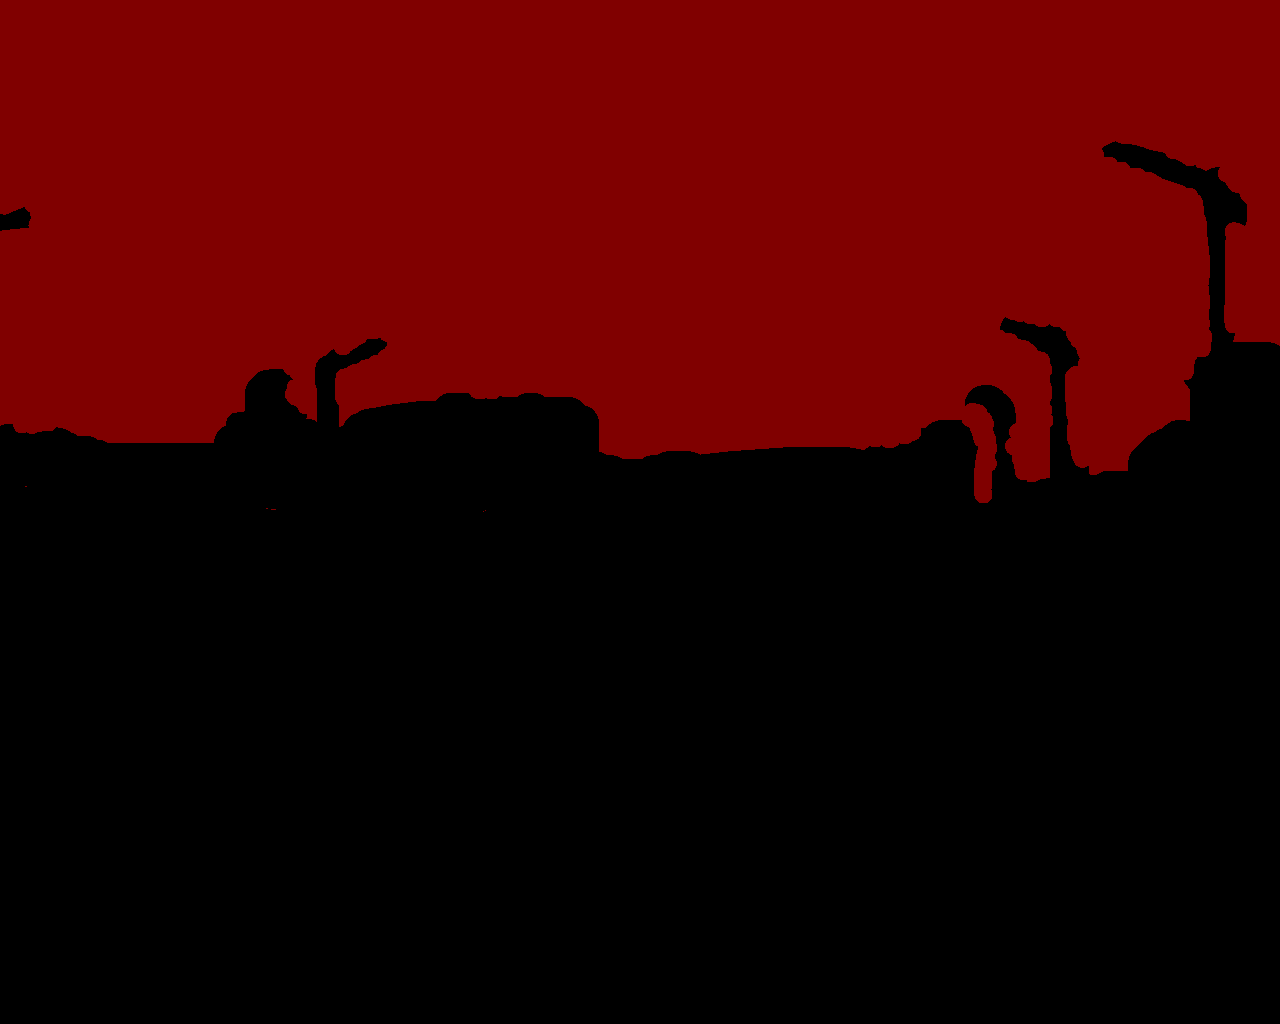Sky: (1, 1, 1279, 512)
